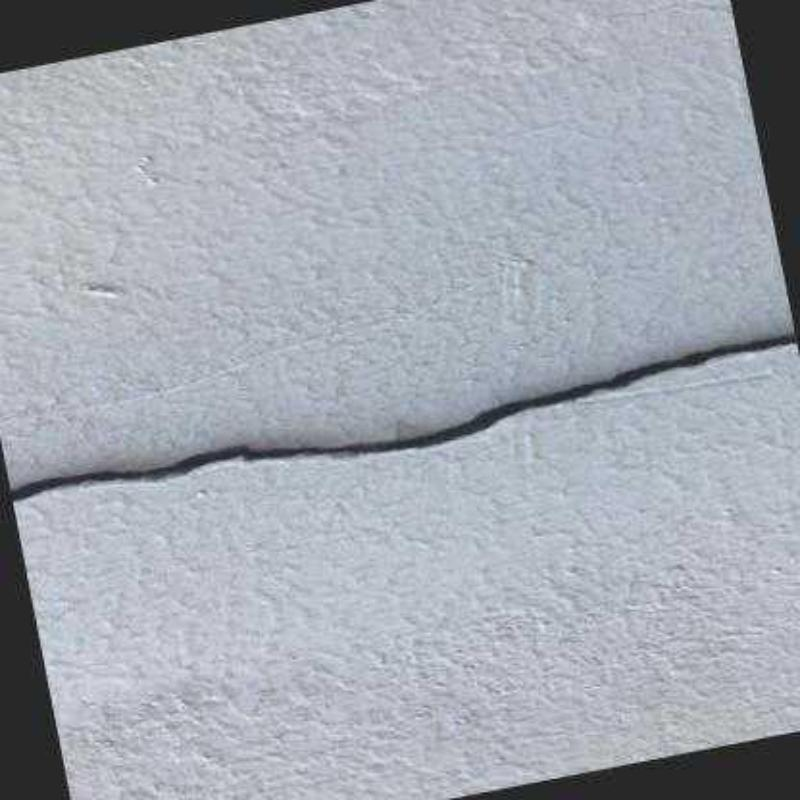crack: (10, 335, 797, 503)
